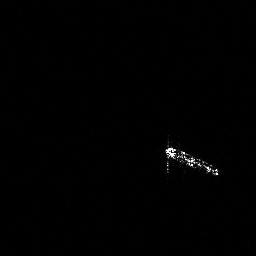ship: (162, 143, 223, 179)
